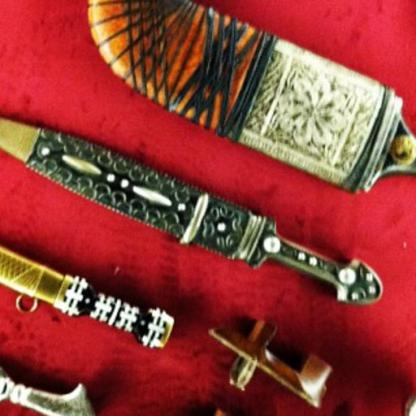knife: (0, 94, 386, 314), (88, 0, 415, 240), (0, 164, 181, 356), (0, 249, 111, 415)
